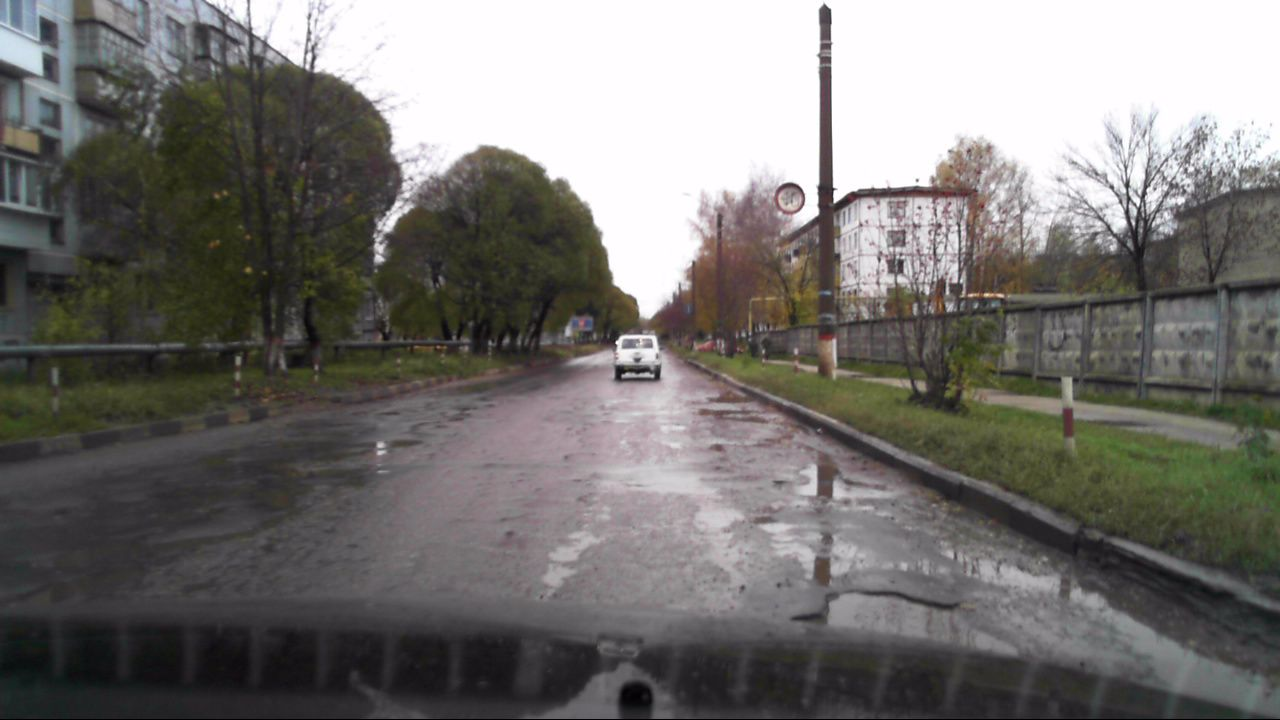speed_warning_40: (773, 181, 806, 214)
